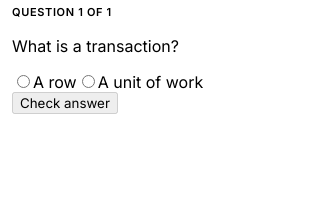
Test: QuizPlayer › shows the explanation after checking an answer and moves on
The width and height of the screenshot is (332, 203).
What coordinates should you click on to do the following:
click the radio button labelled "A unit of work"
I would click on:
 (88, 82)
Its box is x1=82 y1=75 x2=95 y2=88.
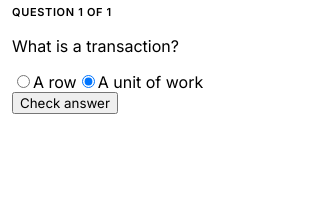
What coordinates should you click on to do the following:
click the button "Check answer"
I would click on:
 (65, 103)
Its box is x1=12 y1=92 x2=118 y2=114.
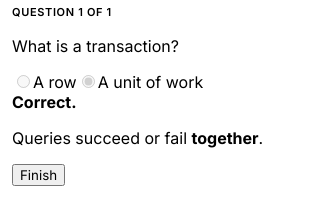
Result: the text "Correct." is shown at x1=12 y1=92 x2=77 y2=112
What coordinates should you click on to do the following:
click the button "Finish"
I would click on:
 (39, 175)
Its box is x1=12 y1=164 x2=65 y2=186.
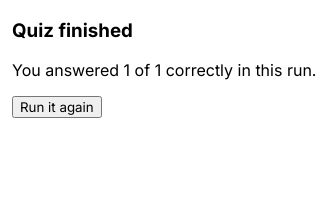
Result: the heading "Quiz finished" is shown at x1=12 y1=19 x2=133 y2=42
